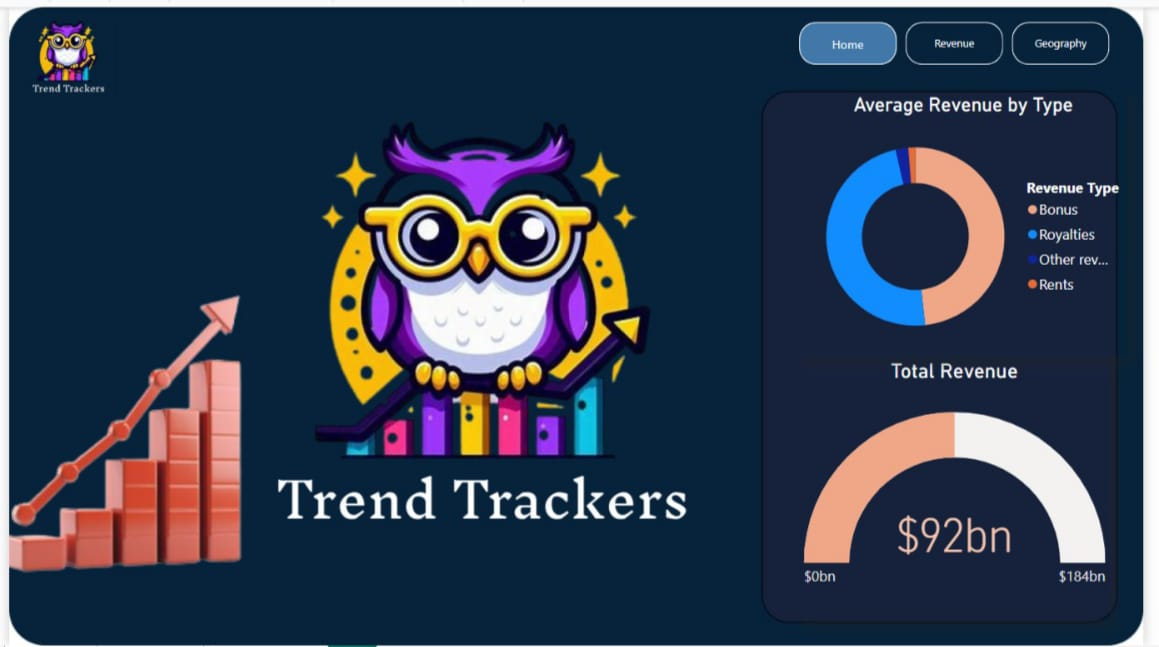

Layout of this report page (visuals, bound fields, positions):
{"tool":"powerbi","page":{"name":"Home","canvas":[1280,720],"ordinal":0},"visuals":[{"type":"pageNavigator","box":[890.9,17.2,350.1,48.5],"z":0},{"type":"image","box":[10.9,0,114.1,114.1],"z":1000},{"type":"gauge","title":"Total Revenue","fields":{"Y":["Sum(revenue_data.Revenue)"]},"box":[890.9,393.9,350.1,298.5],"z":2000},{"type":"donutChart","title":"Average Revenue by Type","fields":{"Category":["revenue_data.Revenue Type"],"Y":["Avg(revenue_data.Revenue)"]},"box":[890.9,93.8,370.4,300.1],"z":3000}]}

Visuals, with their boxes in screenshot pixels (x1, y1, x2, y2), scaled from the page's 1280x720 canvas onto the 1159x647 screenshot:
pageNavigator: Rect(807, 15, 1124, 59)
image: Rect(10, 0, 113, 103)
"Total Revenue" gauge: Rect(807, 354, 1124, 622)
"Average Revenue by Type" donutChart: Rect(807, 84, 1142, 354)
